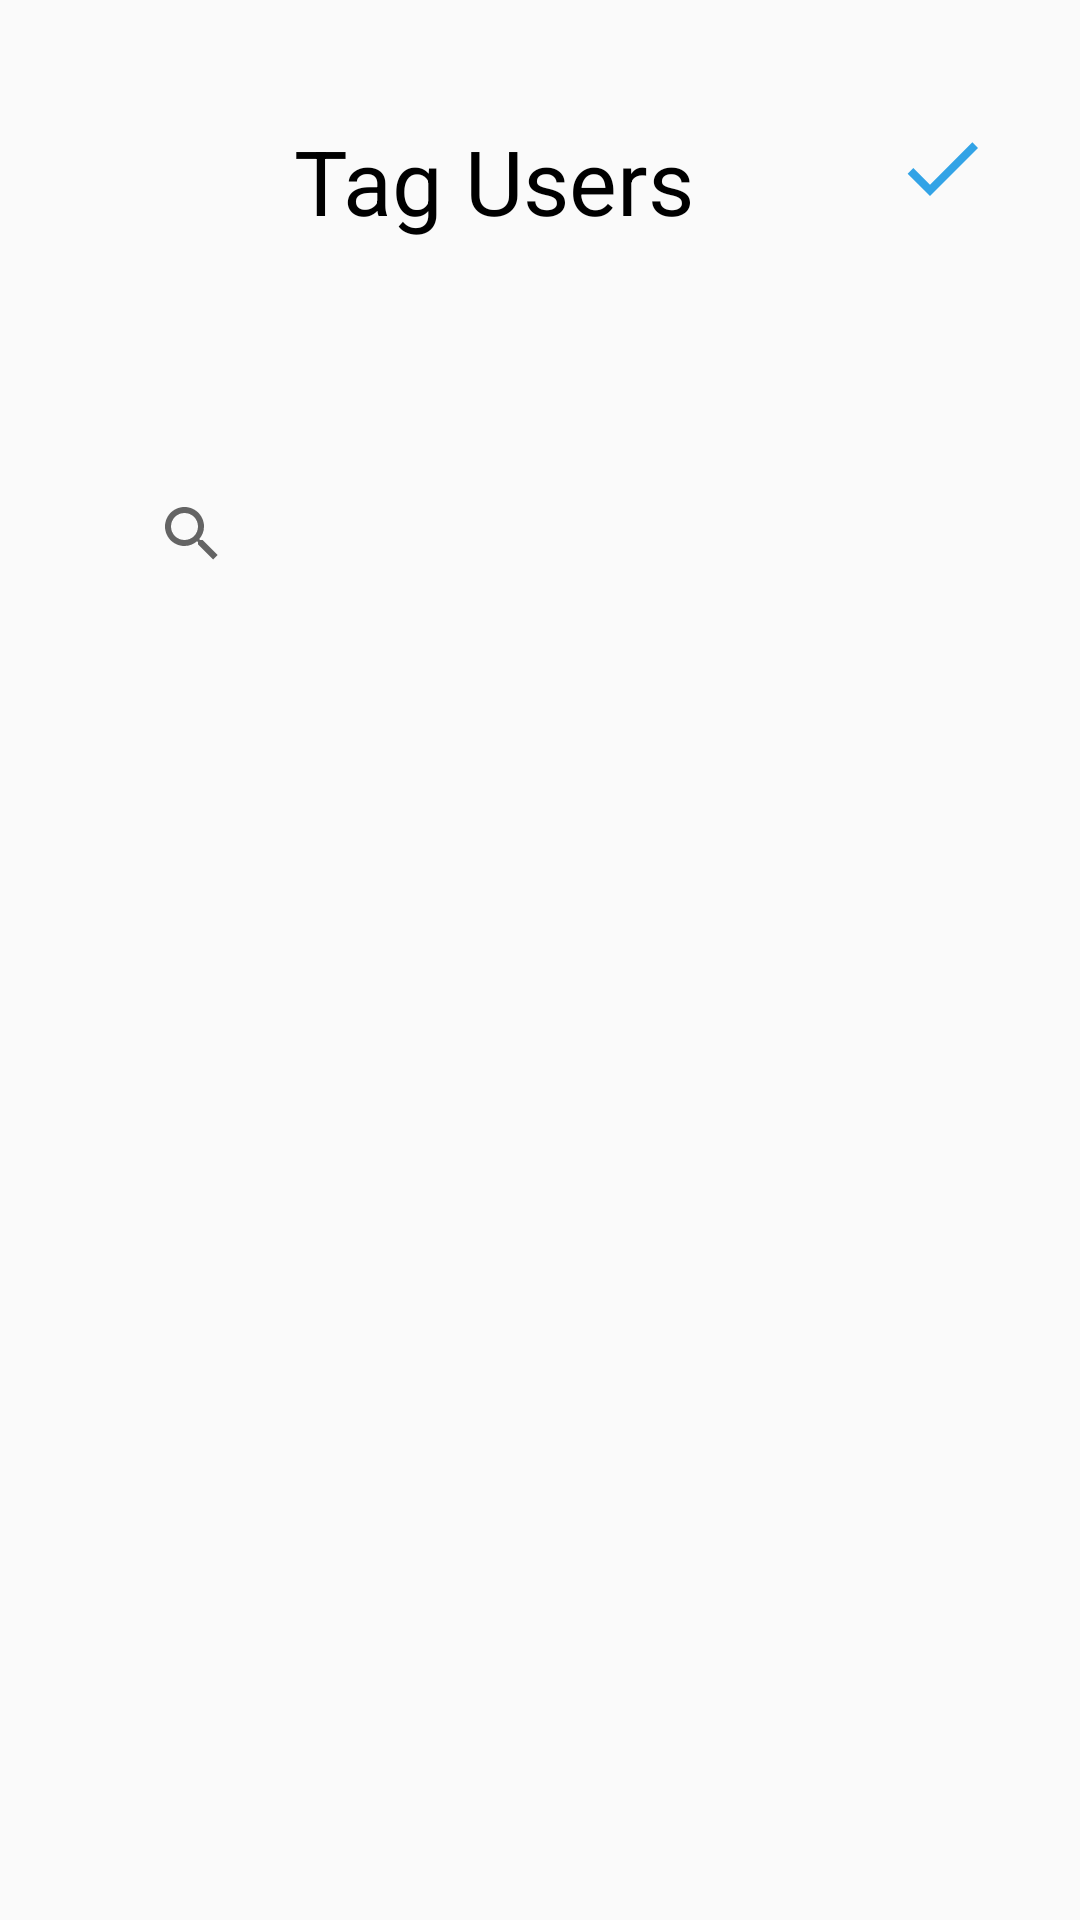

Icons on this 1080w x 1920h Android screen, each with its box as (x1, y1, x2, y2):
check: (908, 142, 978, 196)
